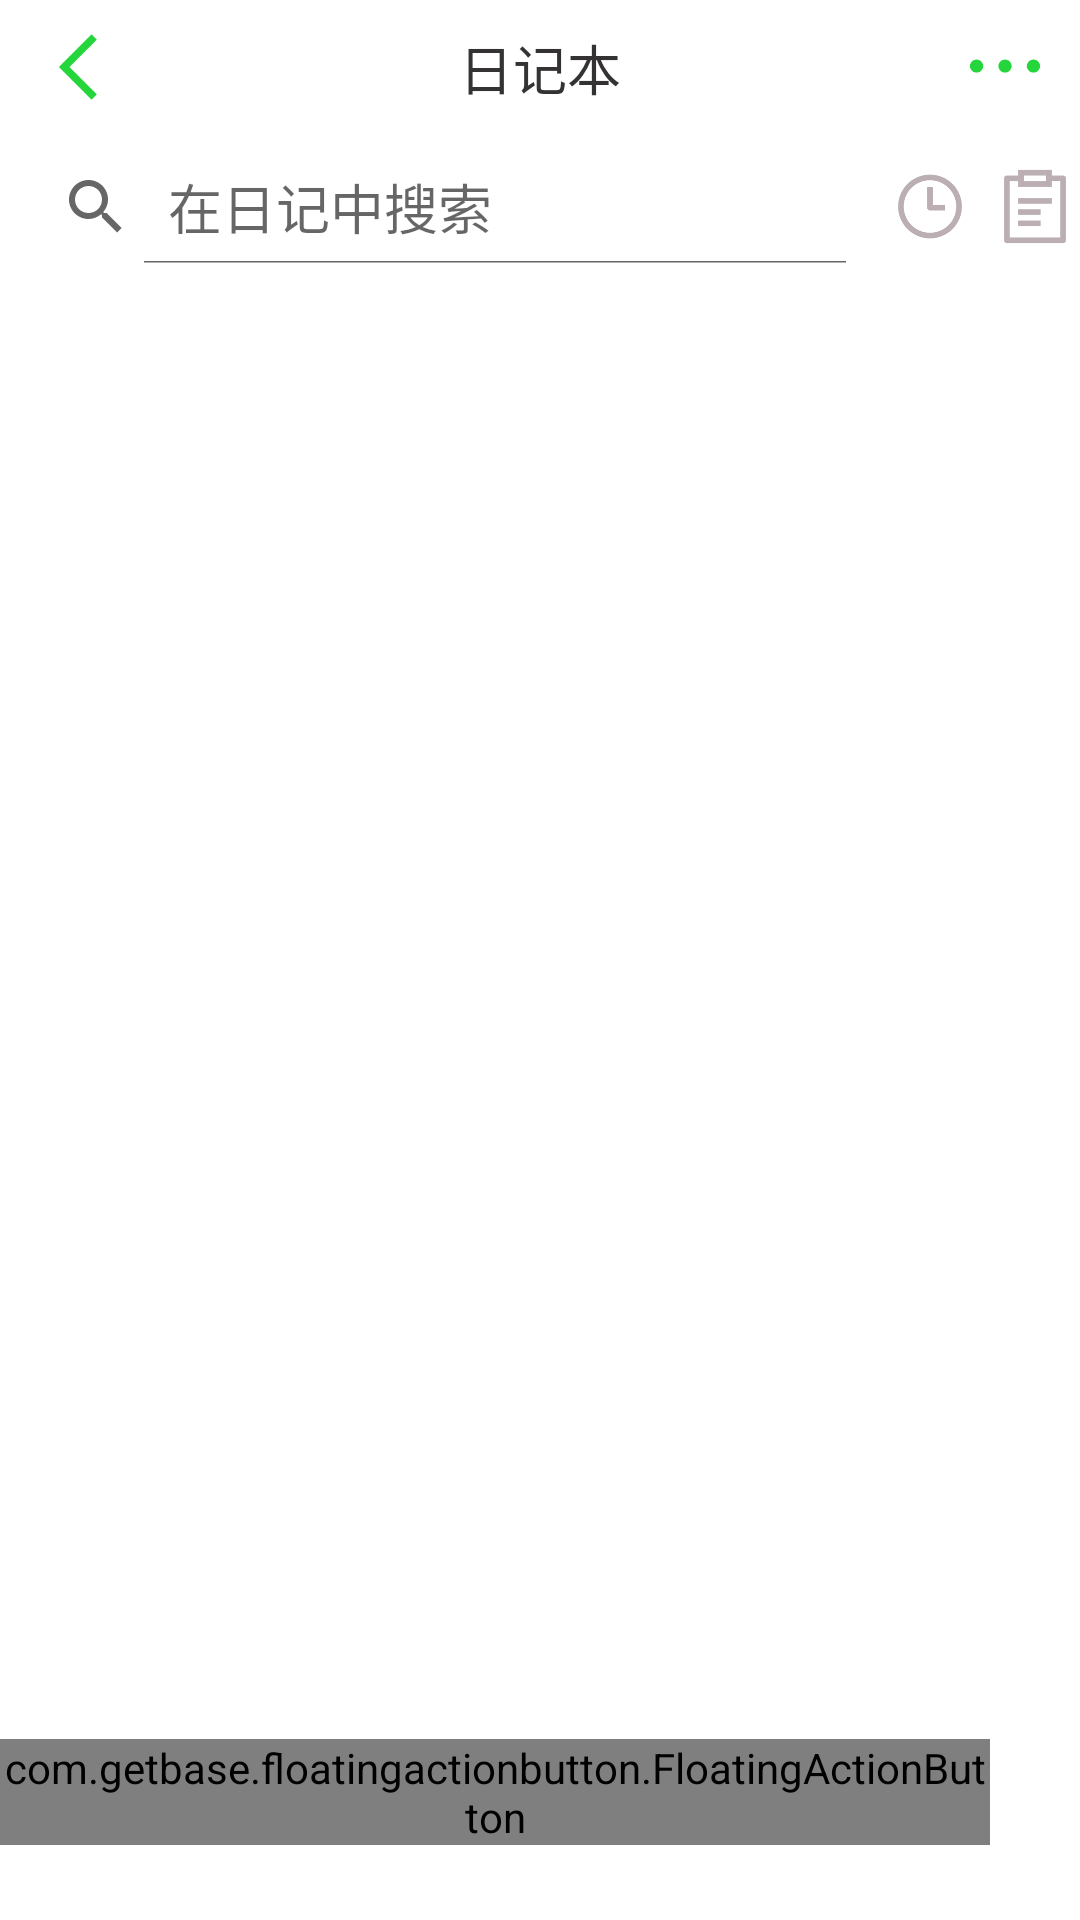

Where icons sit on this 1080w x 1920h app screen, as region(x1, y1, x2, y2):
arrow left: region(59, 34, 97, 100)
clock: region(898, 174, 962, 239)
ellipsis: region(970, 59, 1040, 73)
